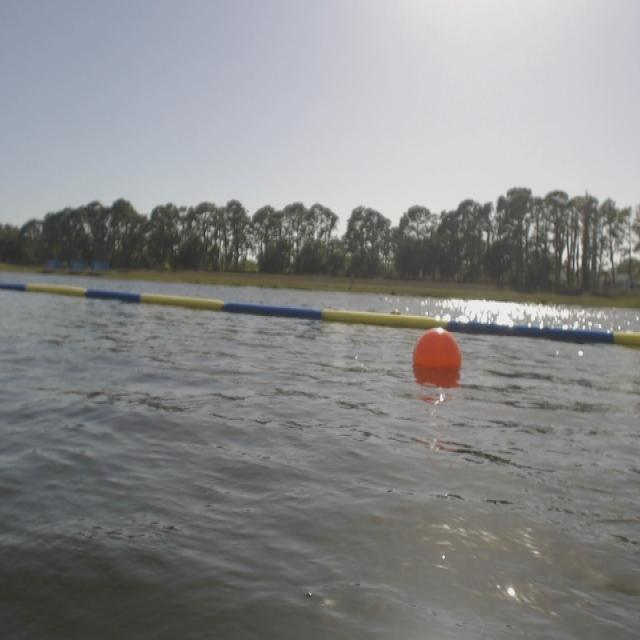Orange__Buoy: (409, 326, 461, 381)
